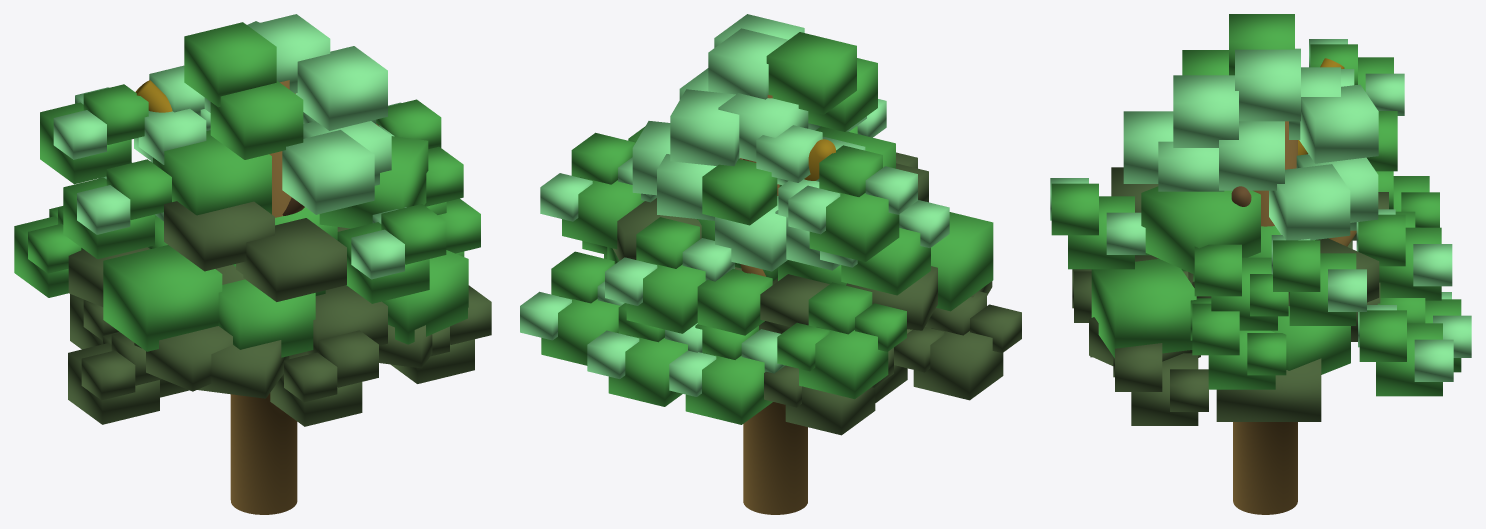
File: 木低ポリ.fbx
3 renders of one model, left to right at view 1: azimuth 30°, elevation 25°; view 2: azimuth 150°, elevation 25°; view 3: azimuth 270°, elevation 25°, orthographic. The views are drawn at different scales.
Parts seen in each view (by area): view 1: 立方体.042; view 2: 立方体.042; view 3: 立方体.042.
Boxes of the visible parts, bbox=[...] form: 立方体.042: bbox=[14, 14, 491, 514]; 立方体.042: bbox=[520, 14, 1021, 514]; 立方体.042: bbox=[1050, 14, 1471, 514].
Size of the model in its own units: 817 by 923 by 773.
